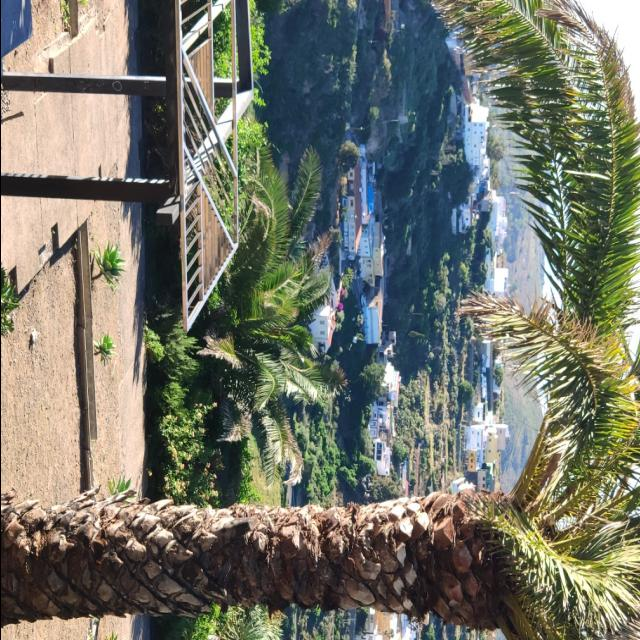Palm-Trees: (199, 186, 327, 488)
